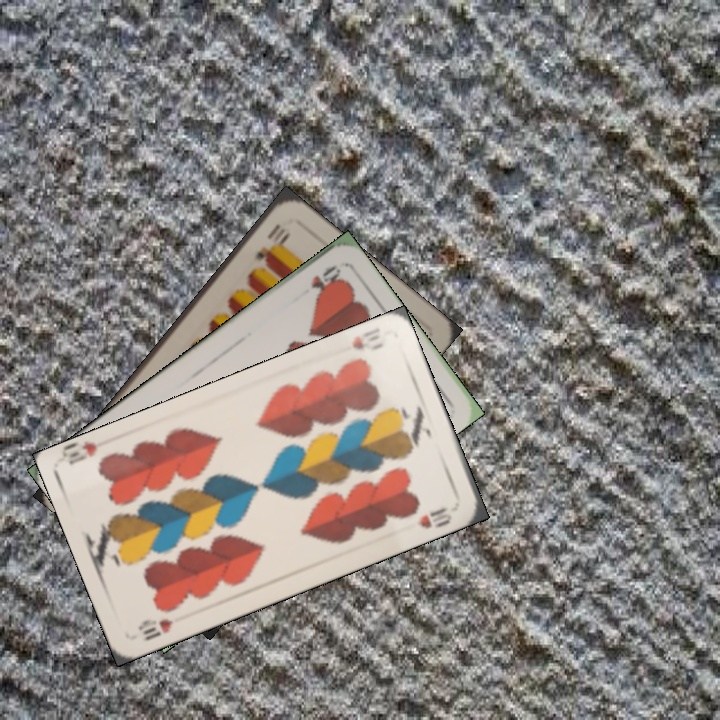E10: (250, 219, 290, 264)
H10: (134, 614, 176, 643), (348, 324, 387, 354)
HO: (307, 260, 344, 293)
